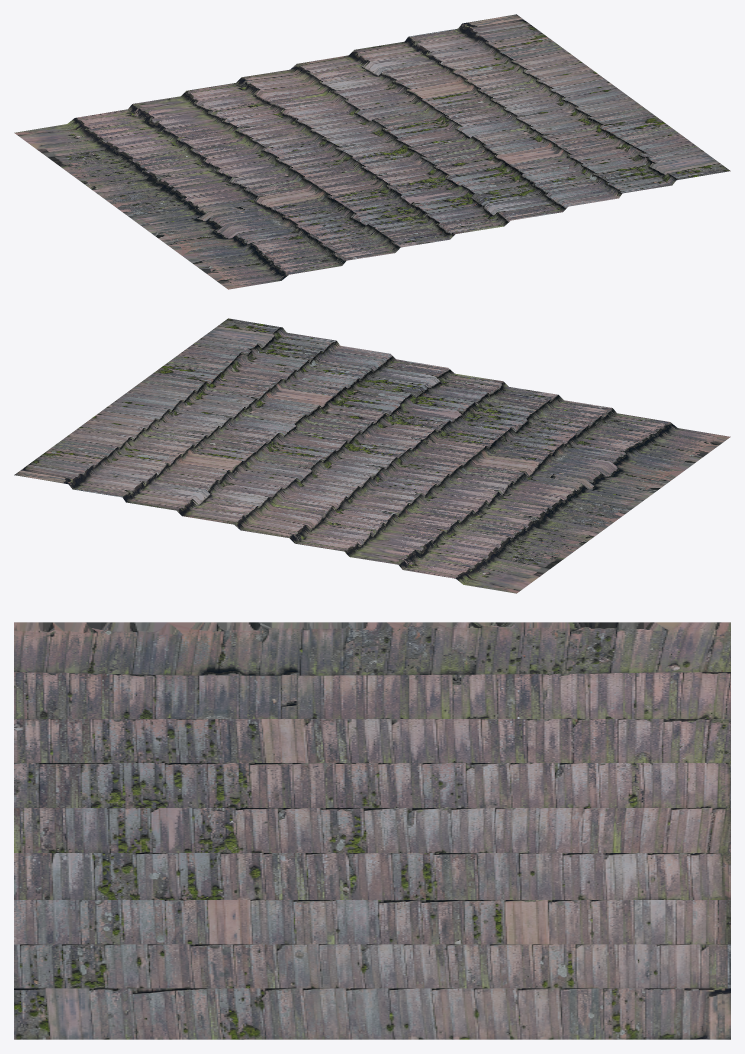
Rendered from sm_Roof_01_05.fbx.
3 views of the same model, one above another, from view 1: azimuth 30°, elevation 25°; view 2: azimuth 150°, elevation 25°; view 3: azimuth 270°, elevation 25° (orthographic). The views are drawn at different scales.
Visible parts, largest first — view 1: sm_Roof_01_05_LOD0; view 2: sm_Roof_01_05_LOD0; view 3: sm_Roof_01_05_LOD0.
Part boxes in pixels (left/top/right/bottom): sm_Roof_01_05_LOD0: left=14, top=14, right=730, bottom=289; sm_Roof_01_05_LOD0: left=14, top=318, right=730, bottom=593; sm_Roof_01_05_LOD0: left=14, top=622, right=730, bottom=1039.
Size of the model in its own units: 339 by 250 by 2.7.
